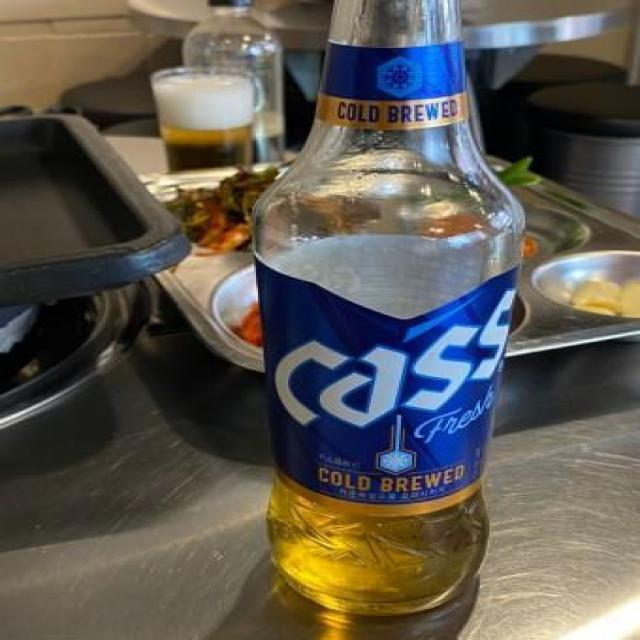beer-bottle: (252, 0, 554, 612)
